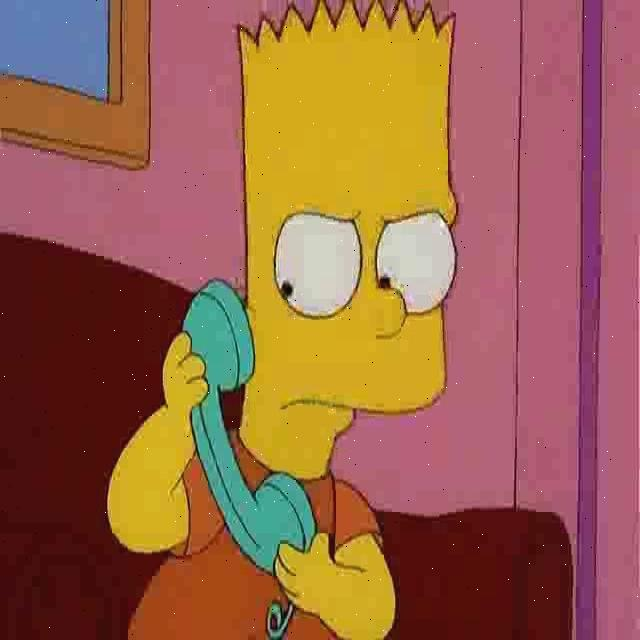Bart Simpson: (232, 1, 462, 484)
